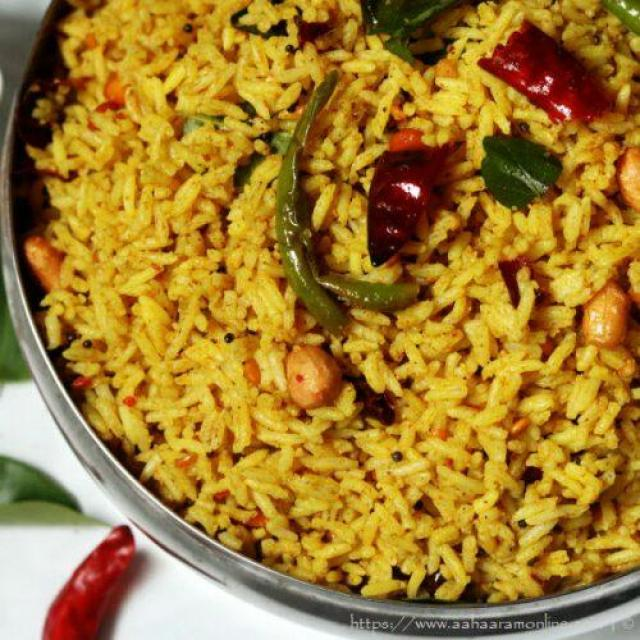puliyogare: (5, 0, 640, 619)
